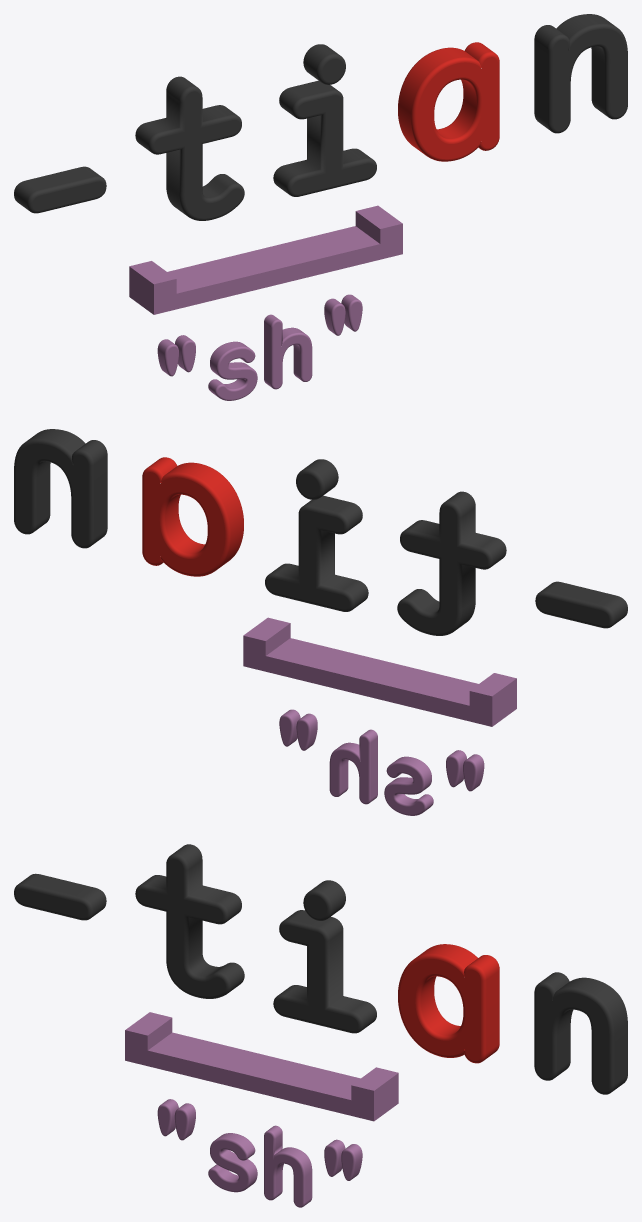
The model's file is -tian.gltf.
The picture shows the model from 3 angles, top to bottom: view 1: azimuth 30°, elevation 25°; view 2: azimuth 150°, elevation 25°; view 3: azimuth 330°, elevation 25°; orthographic projection.
Visible parts, largest first — view 1: Cube.000, Text.006, Text.003, Text.002, Text, Text.001; view 2: Cube.000, Text.006, Text.003, Text.002, Text, Text.001; view 3: Cube.000, Text.006, Text.003, Text.002, Text, Text.001.
Part boxes in pixels (x1,y1,x2,y2): Cube.000: (129, 205, 402, 314); Text.006: (14, 76, 244, 220); Text.003: (398, 42, 499, 161); Text.002: (534, 14, 627, 133); Text: (273, 44, 376, 196); Text.001: (157, 294, 362, 400); Cube.000: (243, 617, 516, 726); Text.006: (397, 491, 627, 635); Text.003: (142, 457, 243, 576); Text.002: (14, 429, 107, 548); Text: (265, 459, 368, 611); Text.001: (279, 709, 484, 815); Cube.000: (125, 1012, 398, 1121); Text.006: (14, 844, 244, 998); Text.003: (398, 944, 499, 1063); Text.002: (534, 972, 627, 1094); Text: (273, 880, 376, 1033); Text.001: (157, 1099, 362, 1207).
Bounding box in the file's own units: 2.68 × 1.4 × 0.1906.
